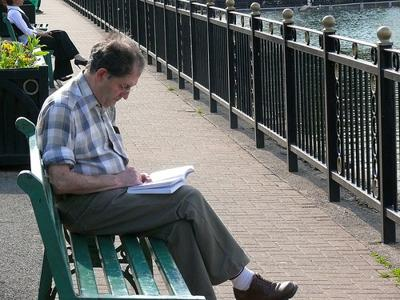person: (35, 40, 298, 300)
